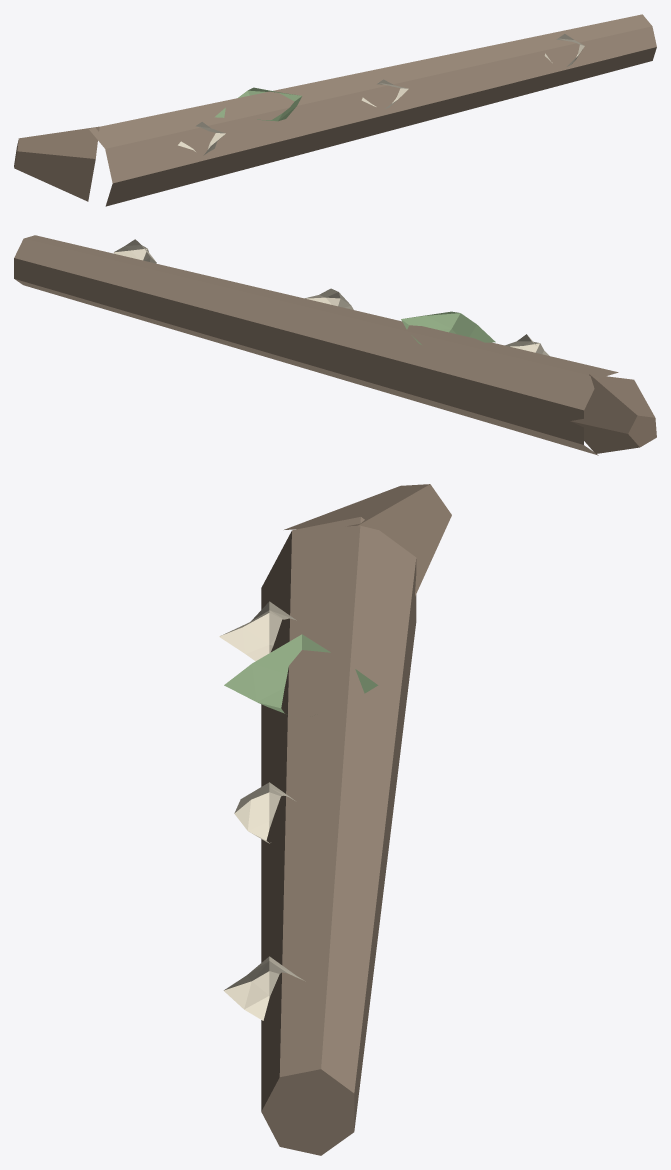
File: log_v04.glb
The picture shows the model from 3 angles, top to bottom: view 1: azimuth 30°, elevation 25°; view 2: azimuth 150°, elevation 25°; view 3: azimuth 270°, elevation 25°; orthographic projection. The views are drawn at different scales.
Parts seen in each view (by area): view 1: lod0; view 2: lod0; view 3: lod0.
Part boxes in pixels (x1=…): lod0: x1=14, y1=14, x2=656, y2=206; lod0: x1=14, y1=235, x2=656, y2=455; lod0: x1=219, y1=484, x2=451, y2=1155.
Size of what is drawn, in the model's own units: 3.44 by 0.4331 by 0.5718.
